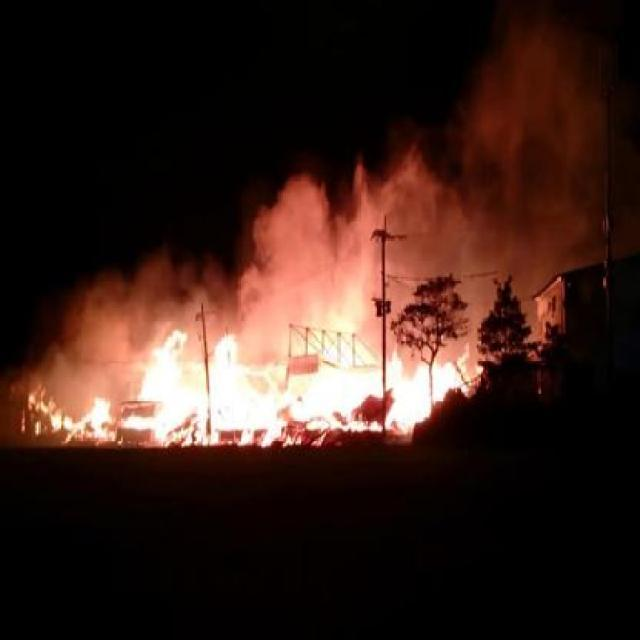Fire: (13, 340, 490, 450)
